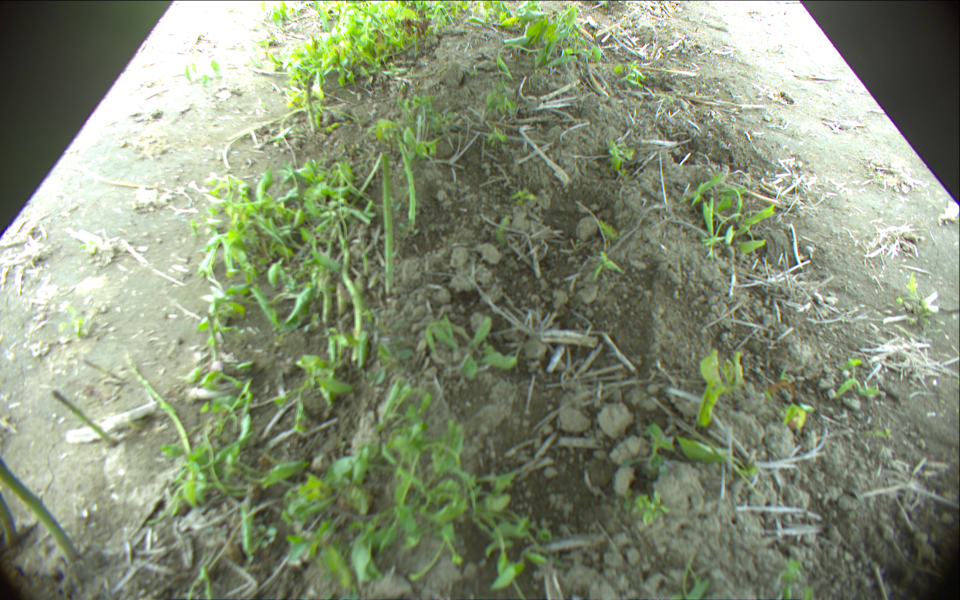aspa: (1, 454, 84, 566), (125, 351, 194, 464), (54, 390, 121, 447), (338, 229, 364, 359), (378, 153, 396, 299), (397, 124, 417, 230), (1, 482, 17, 545)
